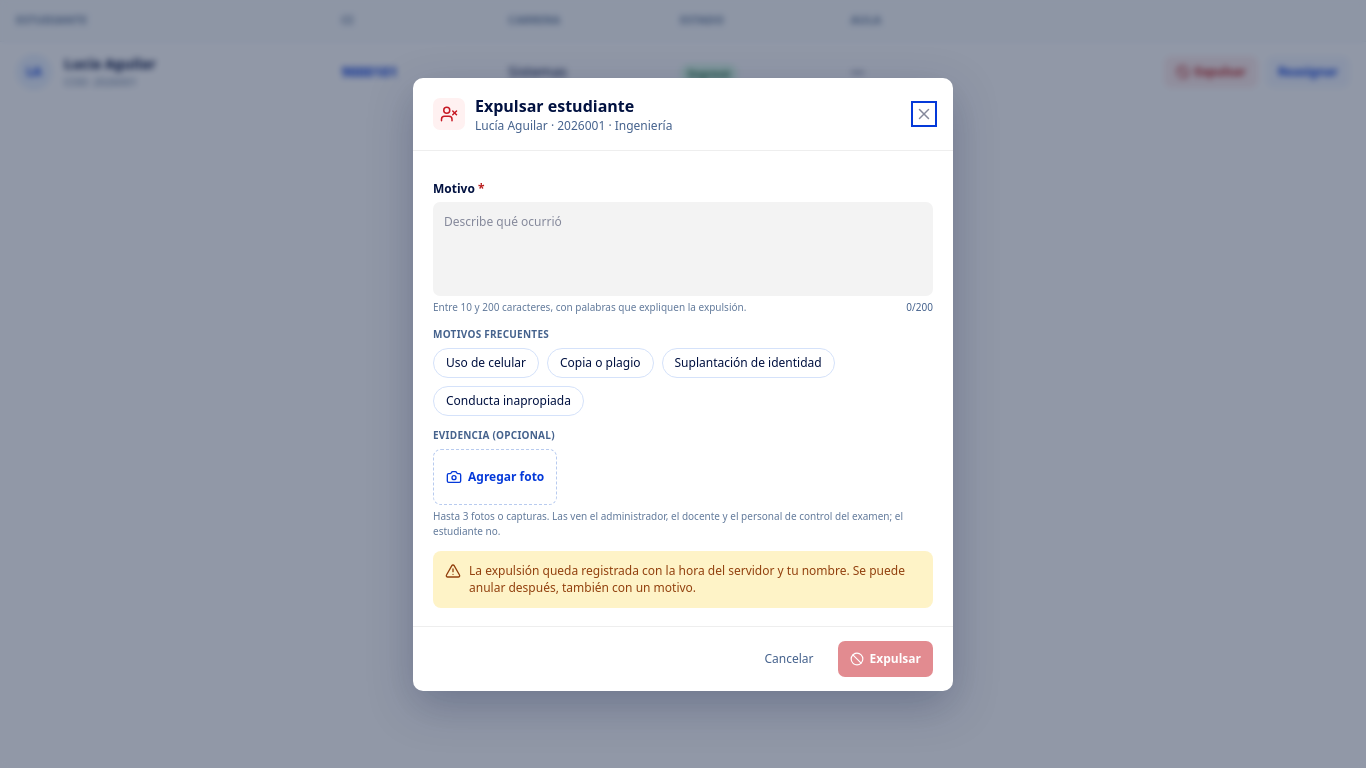
Test: vista 1: carga, doble envío, error HTTP y 2xx sin confirmar
Earlier steps of the test are not shown.
Later steps or results of the test are not shown.
Step 1. Type "Uso de celular" into the text box → (683, 248), box [433,202,933,296]
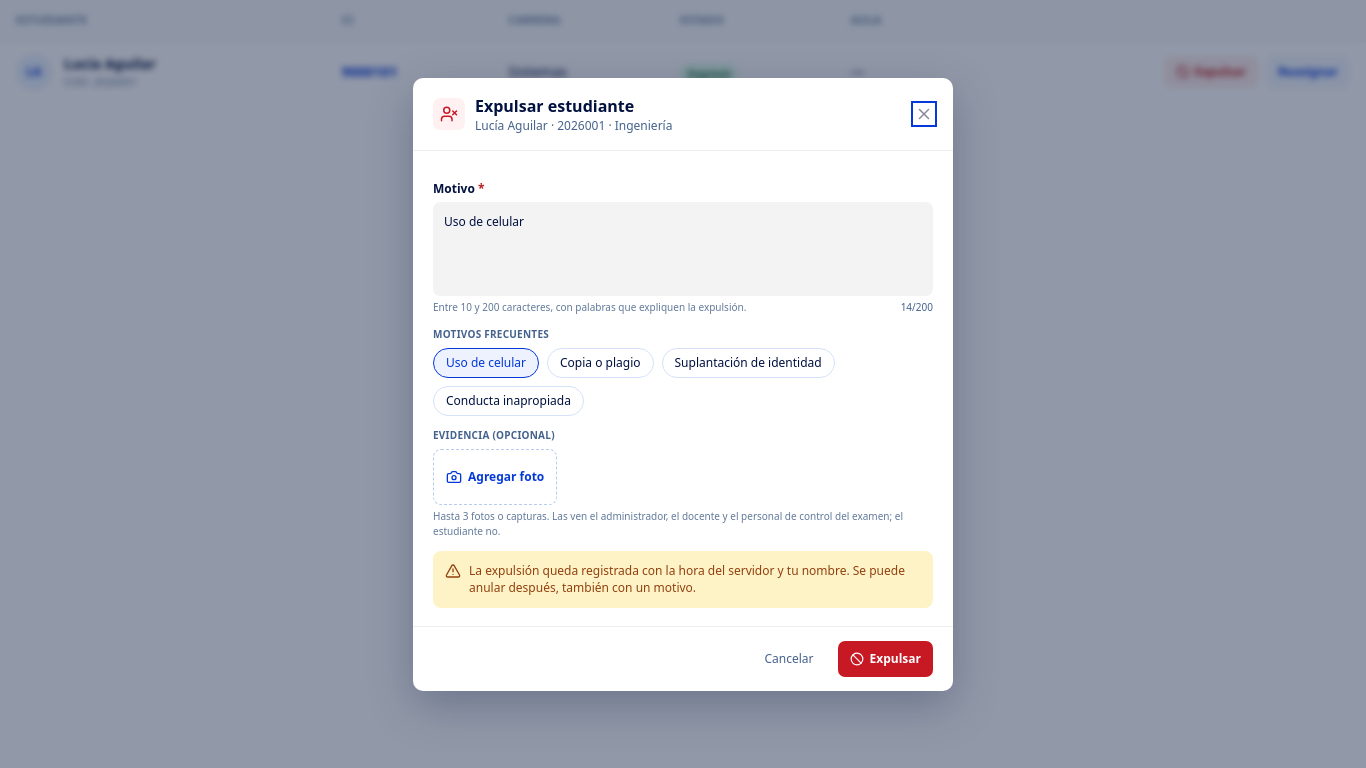
Step 2. Submit the form, box [413,78,953,690]
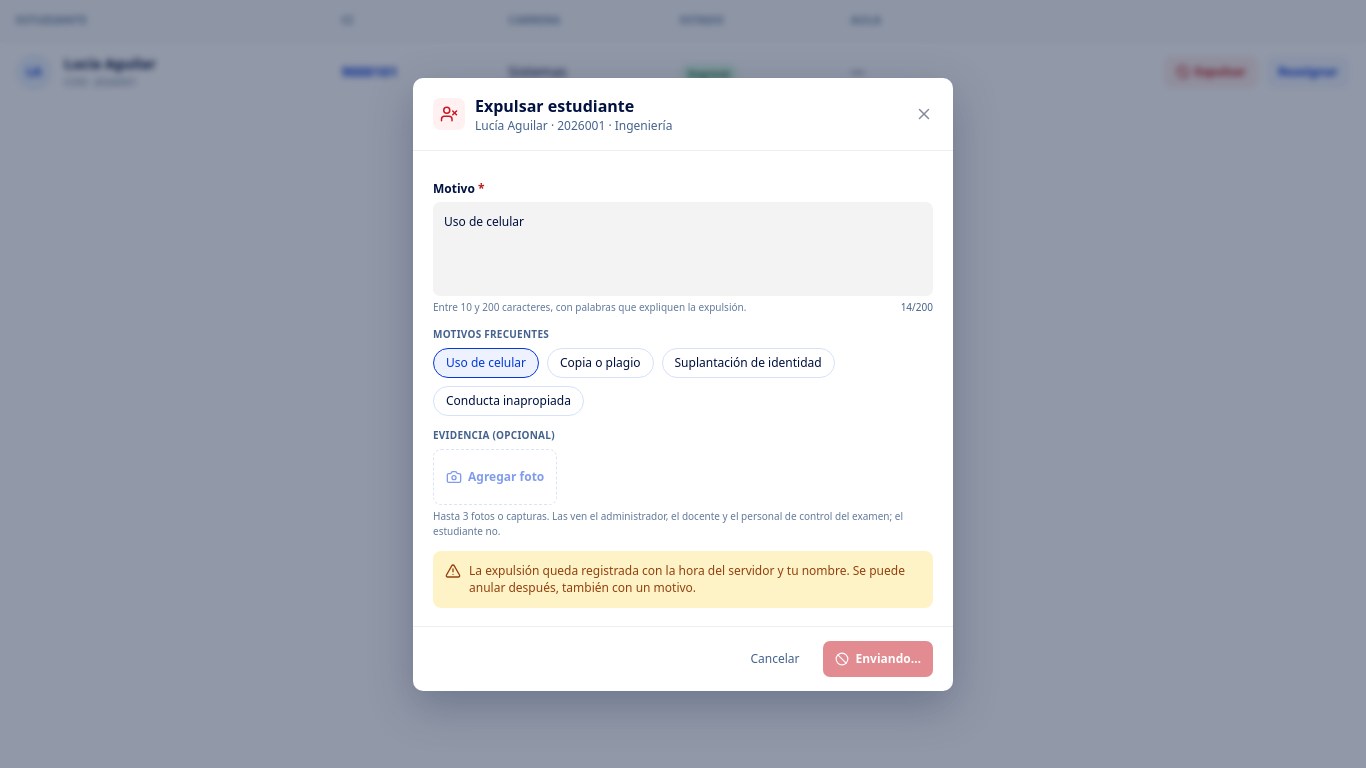
Step 3. Submit the form, box [413,78,953,690]
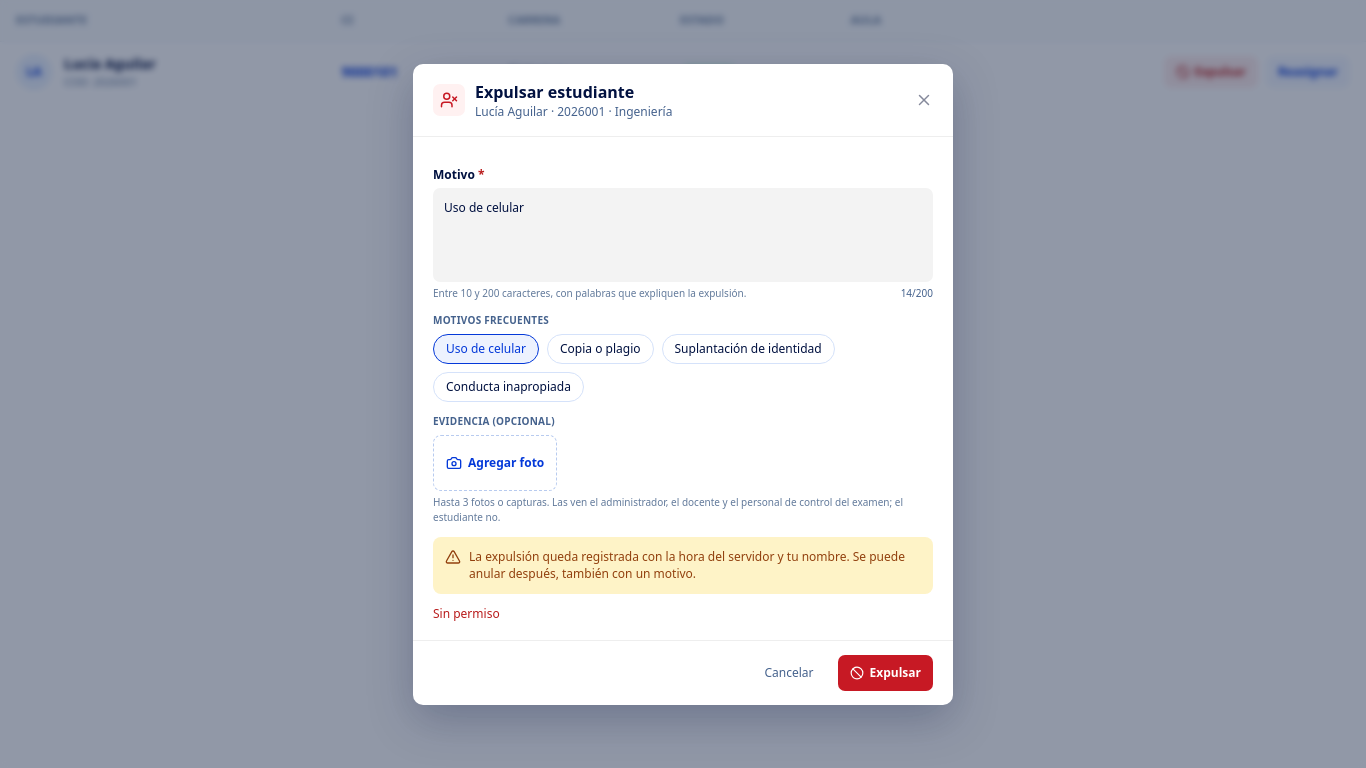
Result: the message reads "Sin permiso" at [433,604,500,622]
Step 4. Click the button "Expulsar" → (885, 672), box [838,654,933,690]
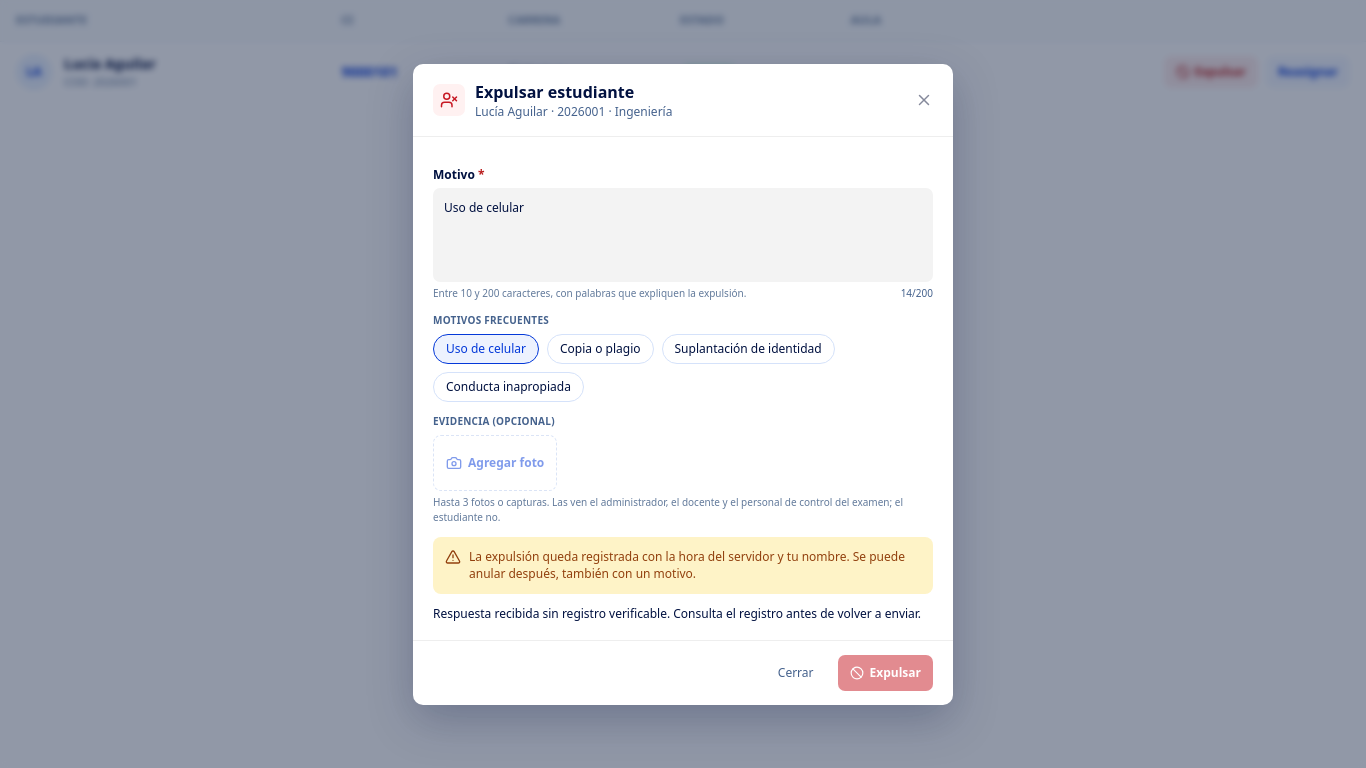
Result: the message shows "sin registro verificable" at [433,604,921,622]
Result: the button "Expulsar" is disabled at [838,654,933,690]
